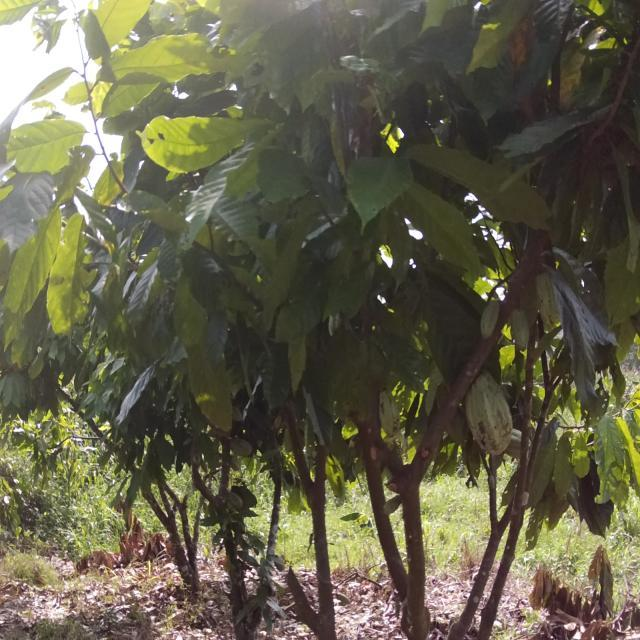Immature: (536, 274, 573, 346), (479, 296, 503, 348), (511, 303, 535, 353)
Mature_Unripe: (465, 375, 515, 463), (376, 383, 406, 442), (227, 435, 255, 471)
